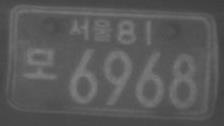1: (138, 18, 158, 47)
6: (133, 49, 166, 109), (67, 46, 99, 105)
8: (167, 51, 199, 111), (115, 17, 138, 46)
9: (100, 48, 133, 107)
모: (22, 45, 59, 81)
서울_O: (68, 15, 113, 43)
